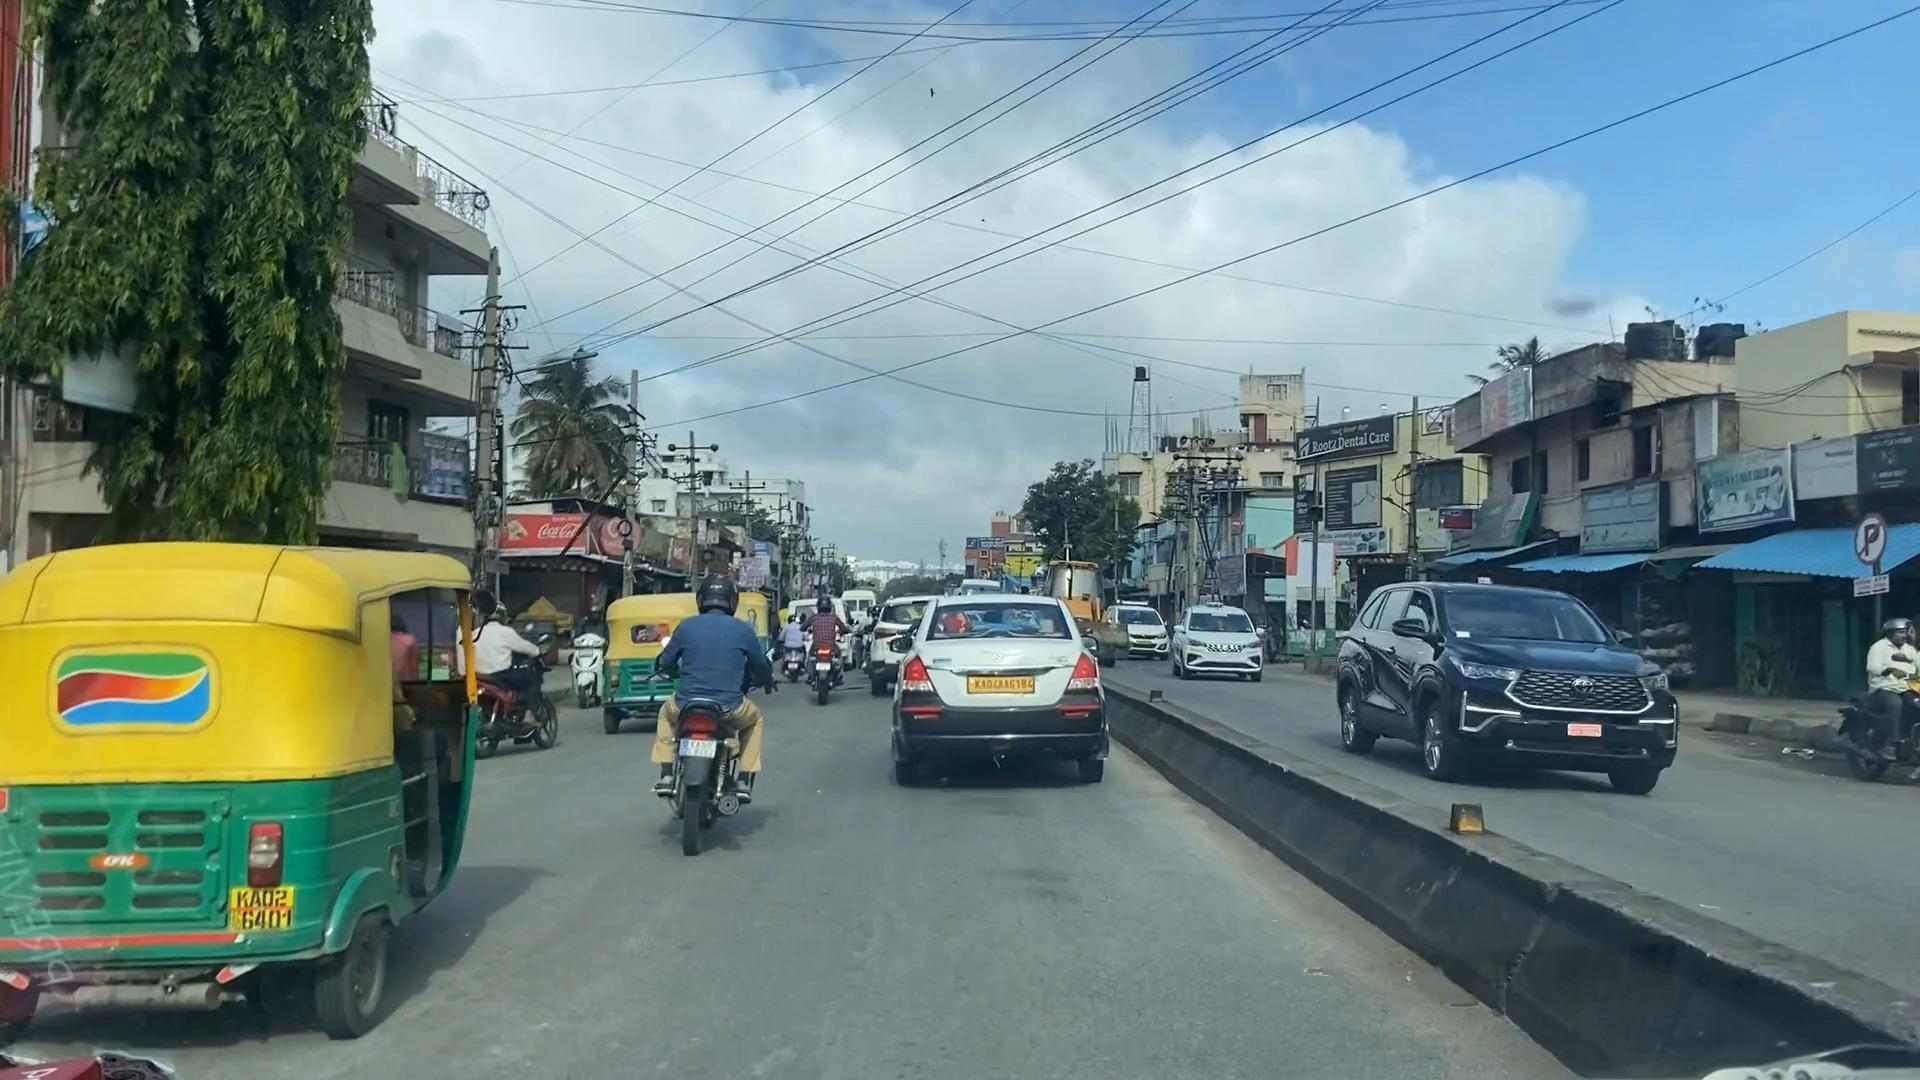LMV: (11, 551, 483, 1034), (897, 588, 1109, 791), (682, 582, 748, 865)
